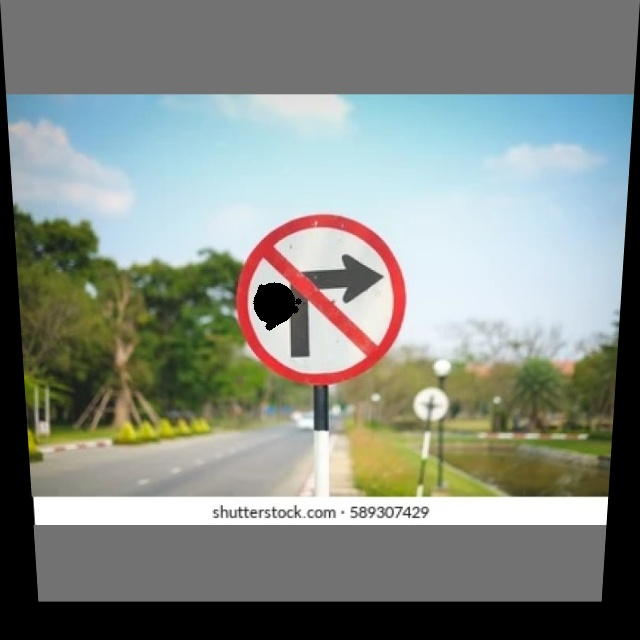Right_Turn_Prohibited: (234, 214, 409, 387)
